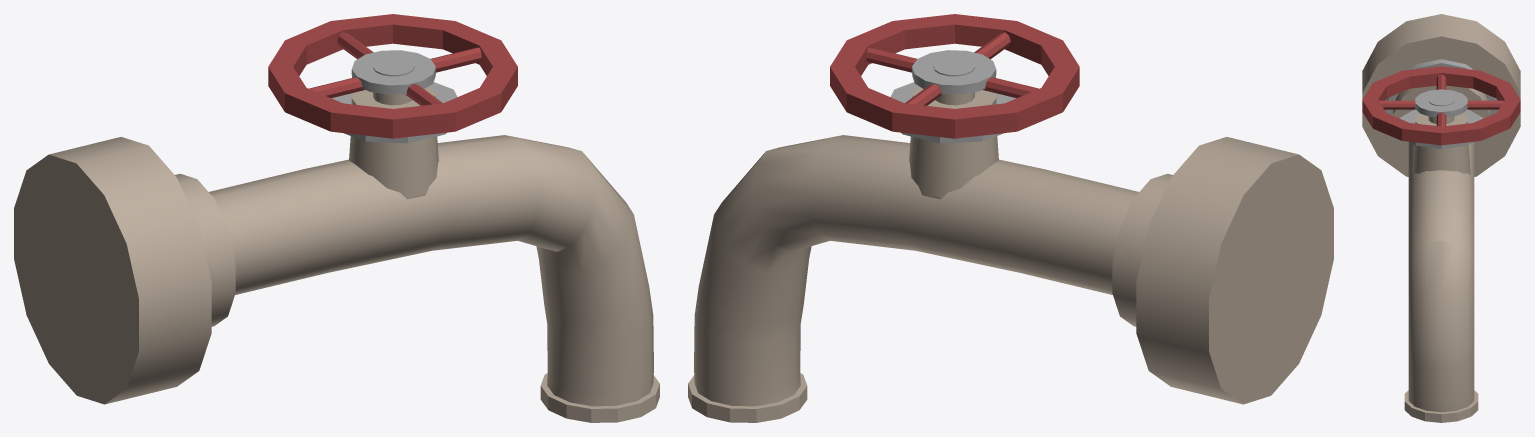
Rendered from Toreneira.fbx.
3 views of the same model, side by side, from view 1: azimuth 30°, elevation 25°; view 2: azimuth 150°, elevation 25°; view 3: azimuth 270°, elevation 25° (orthographic). The views are drawn at different scales.
Parts seen in each view (by area): view 1: pCylinder15; view 2: pCylinder15; view 3: pCylinder15.
Boxes of the visible parts, x1,y1,x2,y2 form: pCylinder15: (14,14,659,422); pCylinder15: (688,14,1333,422); pCylinder15: (1362,14,1520,422).
Size of the model in its own units: 22.8 by 14.51 by 8.58.
